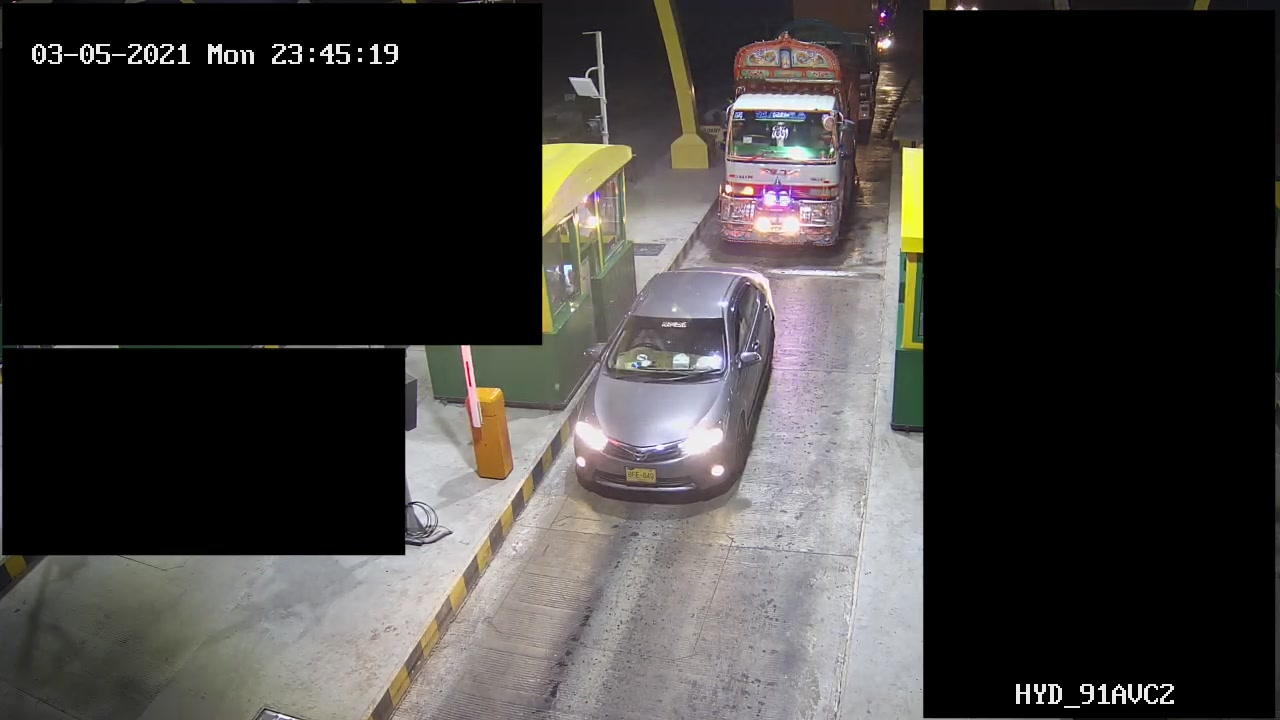F1: (568, 257, 783, 507)
